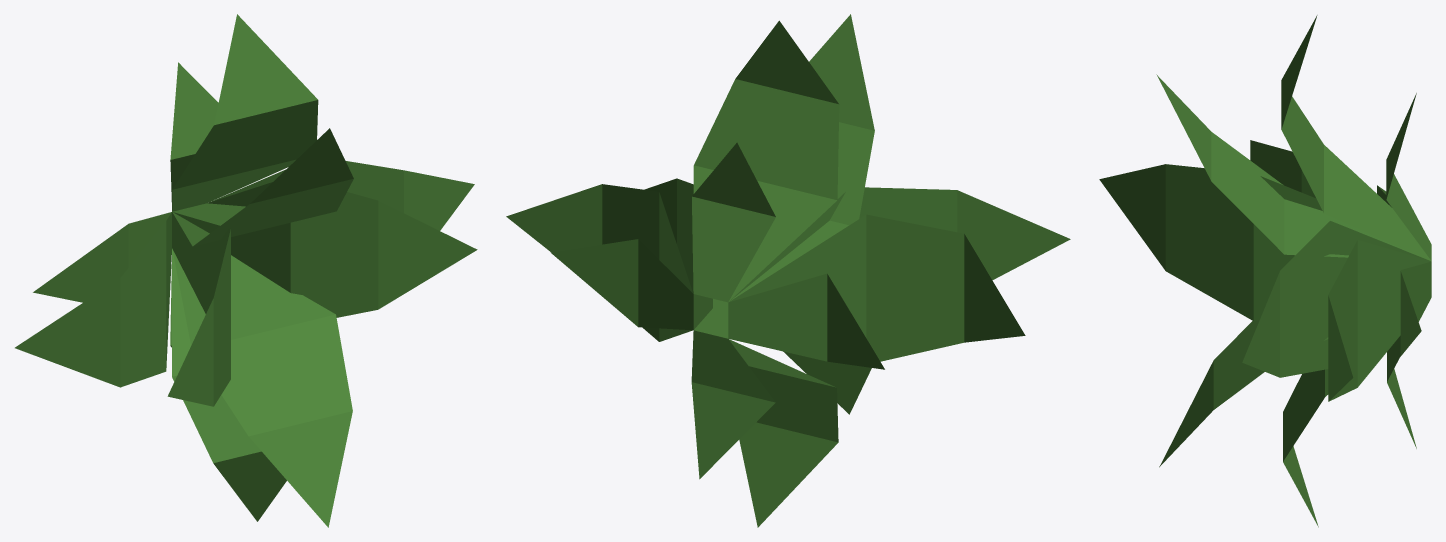
The model's file is bush.obj.
3 views of the same model, side by side, from view 1: azimuth 30°, elevation 25°; view 2: azimuth 150°, elevation 25°; view 3: azimuth 270°, elevation 25° (orthographic).
Bounding box in the file's own units: 1.5 × 1.5 × 0.9.
